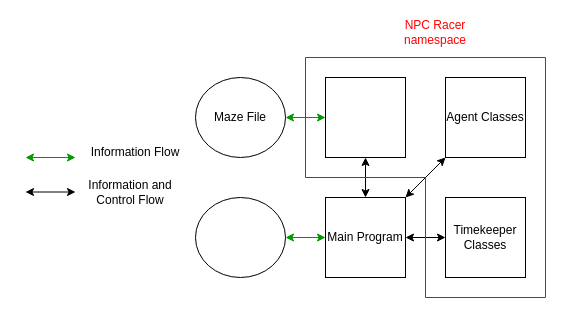
Some shapes in this 564 by 316 pixel diagram are drawn without their labels. The centre of each missing label's shape, as x and y in pixels:
Maze Class: point 365,117
Terminal Output: point 240,237
